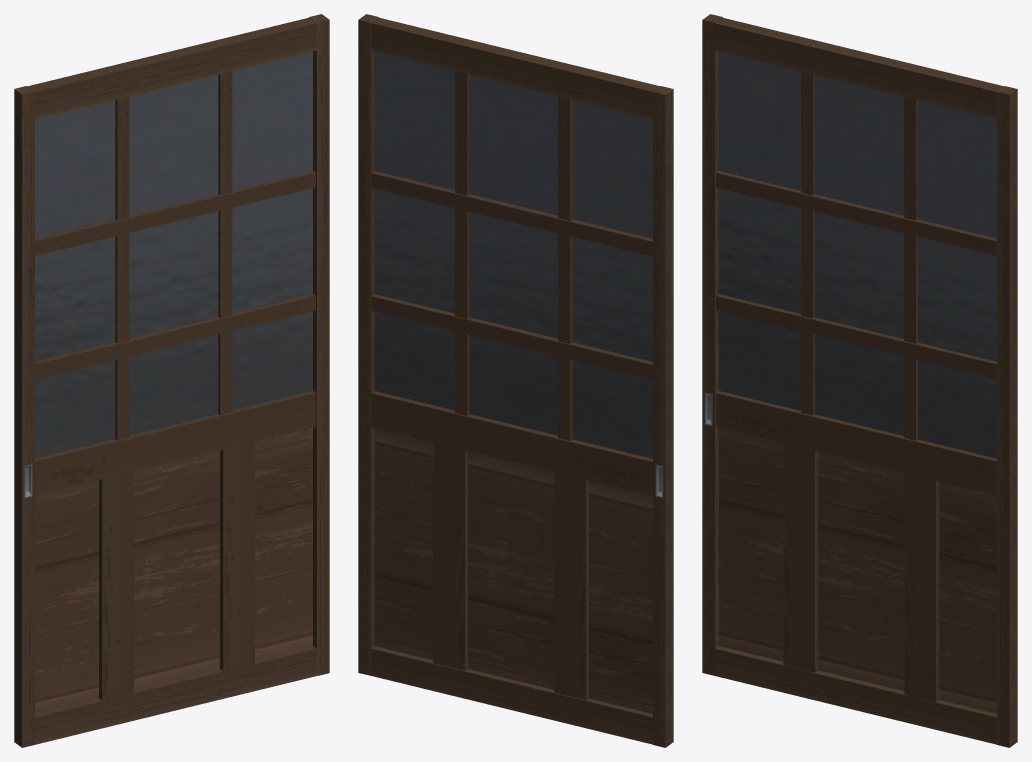
The model's file is JpHouse_01door_al.fbx.
3 renders of one model, left to right at view 1: azimuth 30°, elevation 25°; view 2: azimuth 150°, elevation 25°; view 3: azimuth 330°, elevation 25°, orthographic.
Parts seen in each view (by area): view 1: JpHouse_01door_al; view 2: JpHouse_01door_al; view 3: JpHouse_01door_al.
Part boxes in pixels (<box>): JpHouse_01door_al: <box>14,14,329,747</box>; JpHouse_01door_al: <box>358,14,673,747</box>; JpHouse_01door_al: <box>702,14,1017,747</box>.
Bounding box in the file's own units: 1.24 × 2.52 × 0.0575.
